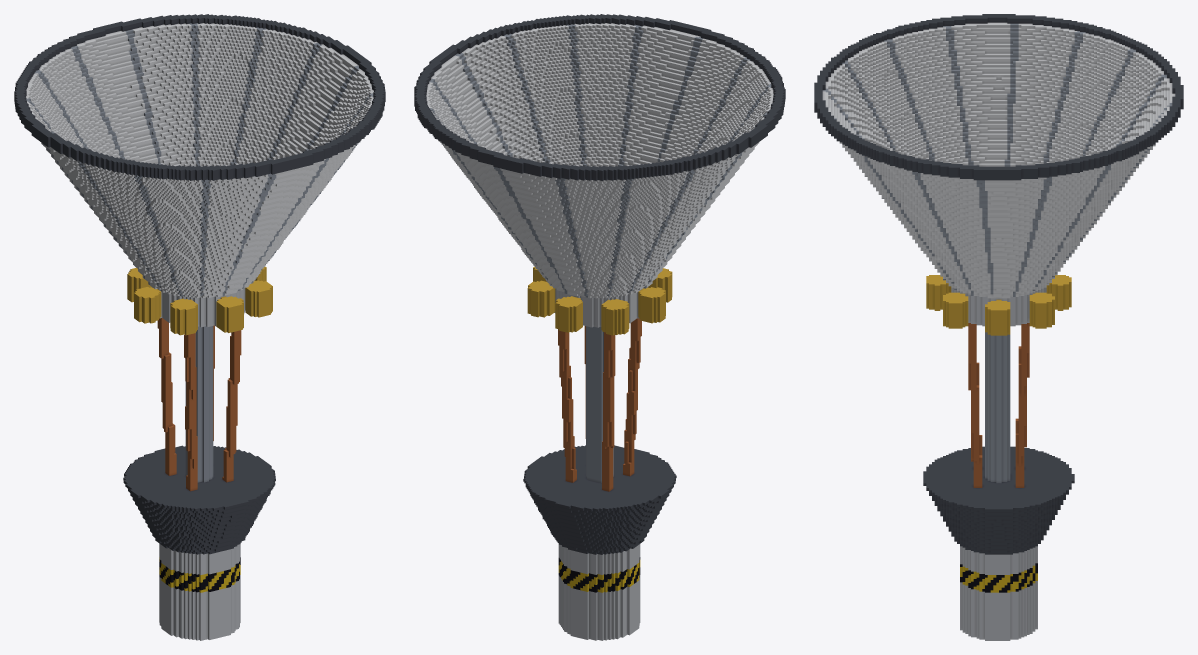
Rendered from fission_reactor.glb.
The picture shows the model from 3 angles, left to right: view 1: azimuth 30°, elevation 25°; view 2: azimuth 150°, elevation 25°; view 3: azimuth 270°, elevation 25°; orthographic projection.
Parts seen in each view (by area): view 1: fission_reactor; view 2: fission_reactor; view 3: fission_reactor.
Part boxes in pixels (x1=…): fission_reactor: x1=14, y1=14, x2=385, y2=640; fission_reactor: x1=414, y1=14, x2=785, y2=640; fission_reactor: x1=814, y1=14, x2=1183, y2=640.
Size of the model in its own units: 2.06 by 3.28 by 2.06.
